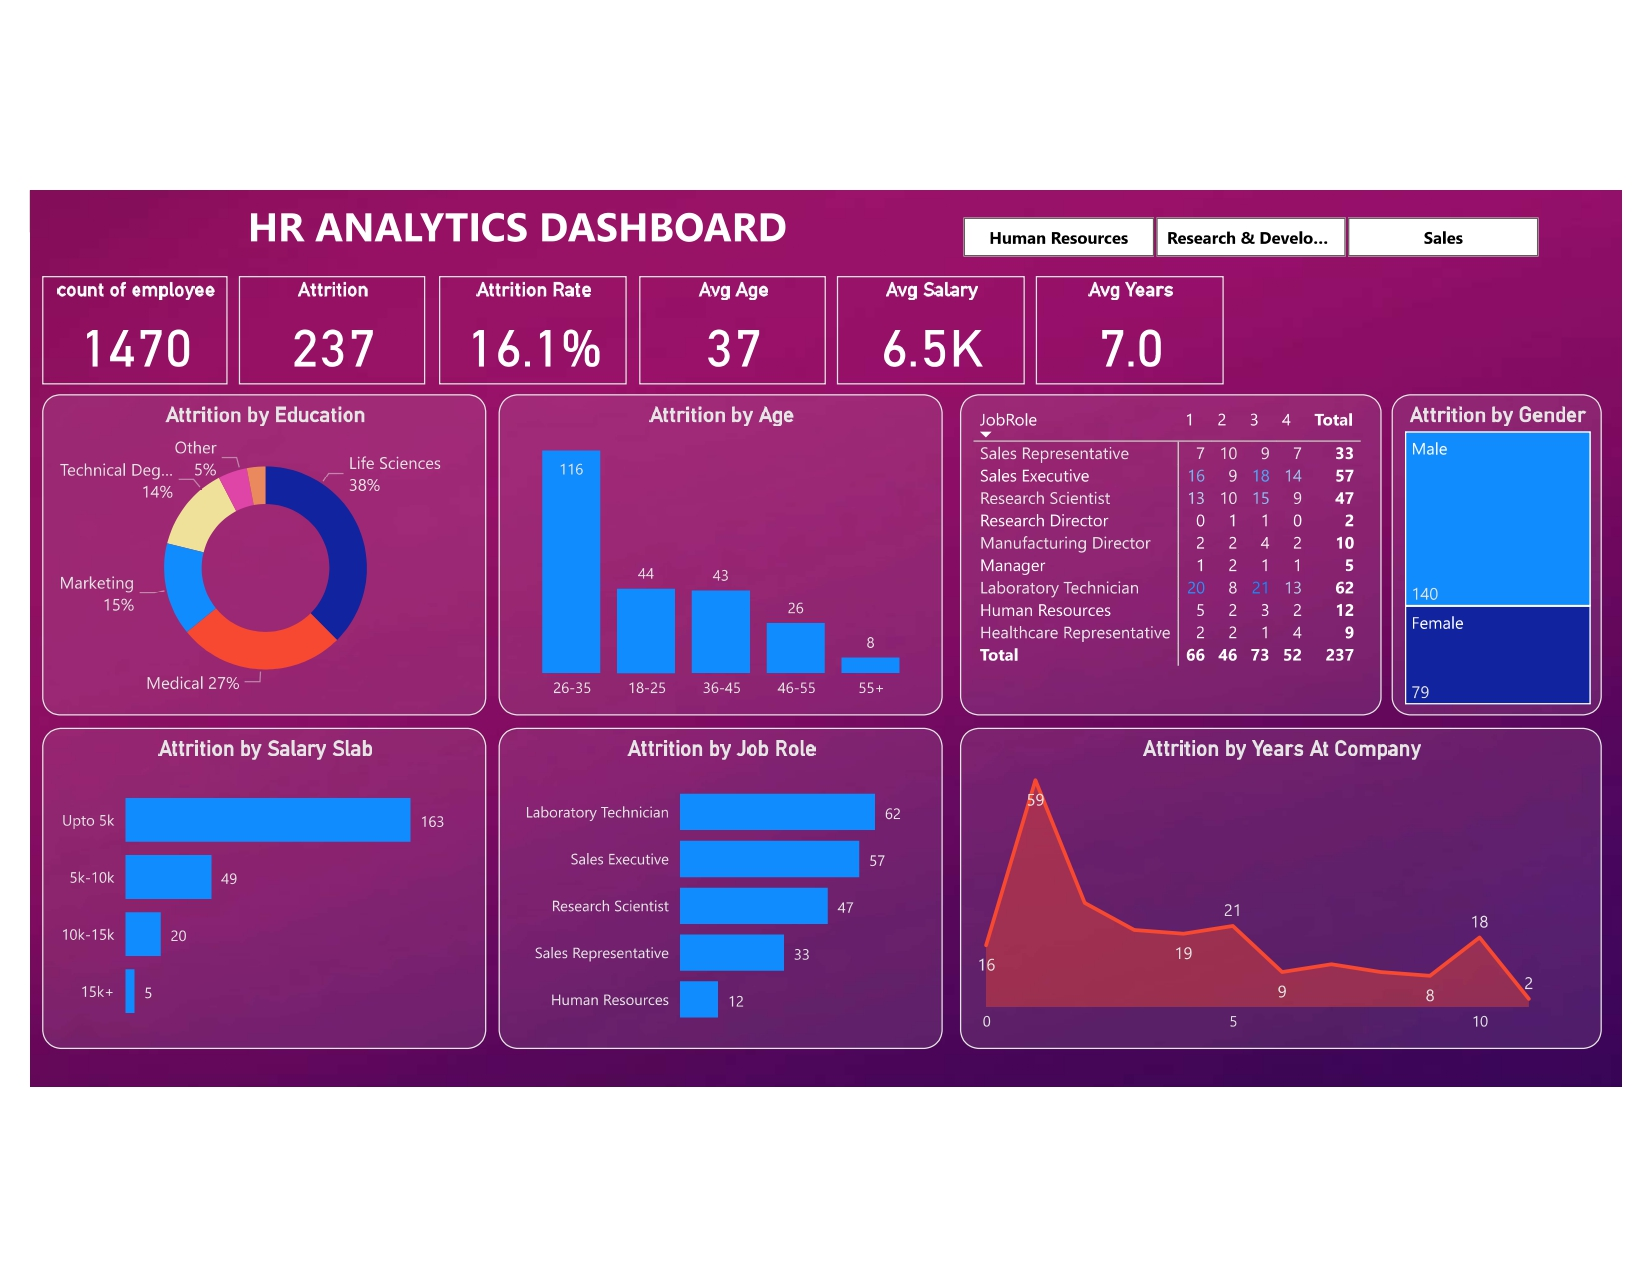

The dashboard page shown, as its layout file describes it:
{"tool":"powerbi","page":{"name":"HR ANALYTICS","canvas":[1280,720],"ordinal":0},"visuals":[{"type":"card","title":"count of employee","fields":{"Values":["CountNonNull(HR_Analytics (1).EmpID)"]},"box":[9.6,68.7,149.5,86.8],"z":0},{"type":"card","title":"Attrition","fields":{"Values":["Sum(HR_Analytics (1).Attrition count)"]},"box":[167.6,68.7,150.8,86.8],"z":1000},{"type":"card","title":"Avg Age","fields":{"Values":["Avg(HR_Analytics (1).Age)"]},"box":[489.6,68.7,150.8,86.8],"z":2000},{"type":"card","title":"Attrition Rate","fields":{"Values":["HR_Analytics (1).AttritionRate"]},"box":[329.2,68.7,150.8,86.8],"z":3000},{"type":"card","title":"Avg Salary","fields":{"Values":["Avg(HR_Analytics (1).MonthlyIncome)"]},"box":[648.8,68.7,150.8,86.8],"z":4000},{"type":"card","title":"Avg Years","fields":{"Values":["Avg(HR_Analytics (1).YearsAtCompany)"]},"box":[809.2,68.7,150.8,86.8],"z":5000},{"type":"donutChart","title":"Attrition by Education","fields":{"Category":["HR_Analytics (1).EducationField"],"Y":["Sum(HR_Analytics (1).Attrition count)"]},"box":[9.6,164,357,258.1],"z":6000},{"type":"columnChart","title":"Attrition by Age","fields":{"Category":["HR_Analytics (1).AgeGroup"],"Y":["Sum(HR_Analytics (1).Attrition count)"]},"box":[377.5,164,357,258.1],"z":7000},{"type":"pivotTable","fields":{"Rows":["HR_Analytics (1).JobRole"],"Columns":["HR_Analytics (1).JobSatisfaction"],"Values":["Sum(HR_Analytics (1).Attrition count)"]},"box":[747.7,164,338.9,258.1],"z":8000},{"type":"barChart","title":"Attrition by Salary Slab","fields":{"Category":["HR_Analytics (1).SalarySlab"],"Y":["Sum(HR_Analytics (1).Attrition count)"]},"box":[9.6,431.8,357,258.1],"z":9000},{"type":"barChart","title":"Attrition by Job Role","fields":{"Category":["HR_Analytics (1).JobRole","HR_Analytics (1).SalarySlab"],"Y":["Sum(HR_Analytics (1).Attrition count)"]},"box":[377.5,431.8,357,258.1],"z":10000},{"type":"areaChart","title":"Attrition by Years At Company","fields":{"Category":["HR_Analytics (1).YearsAtCompany"],"Y":["Sum(HR_Analytics (1).Attrition count)"]},"box":[747.7,431.8,516.2,258.1],"z":11000},{"type":"slicer","fields":{"Values":["HR_Analytics (1).Department"]},"box":[724.8,1.2,512.6,59.1],"z":13000},{"type":"textbox","box":[36.2,1.2,711.6,59.1],"z":13001},{"type":"treemap","title":"Attrition by Gender","fields":{"Values":["Sum(HR_Analytics (1).Attrition count)"],"Group":["HR_Analytics (1).Gender"]},"box":[1095.1,164,168.8,258.1],"z":13002}]}

Visuals, with their boxes in screenshot pixels (x1, y1, x2, y2):
"count of employee" card: [25,294,215,404]
"Attrition" card: [226,294,418,404]
"Avg Age" card: [635,294,827,404]
"Attrition Rate" card: [431,294,623,404]
"Avg Salary" card: [838,294,1029,404]
"Avg Years" card: [1042,294,1233,404]
"Attrition by Education" donutChart: [25,415,479,743]
"Attrition by Age" columnChart: [493,415,947,743]
pivotTable - HR_Analytics (1).JobRole x HR_Analytics (1).JobSatisfaction: [963,415,1394,743]
"Attrition by Salary Slab" barChart: [25,755,479,1083]
"Attrition by Job Role" barChart: [493,755,947,1083]
"Attrition by Years At Company" areaChart: [963,755,1620,1083]
slicer - HR_Analytics (1).Department: [934,208,1586,283]
textbox: [59,208,964,283]
"Attrition by Gender" treemap: [1405,415,1620,743]
